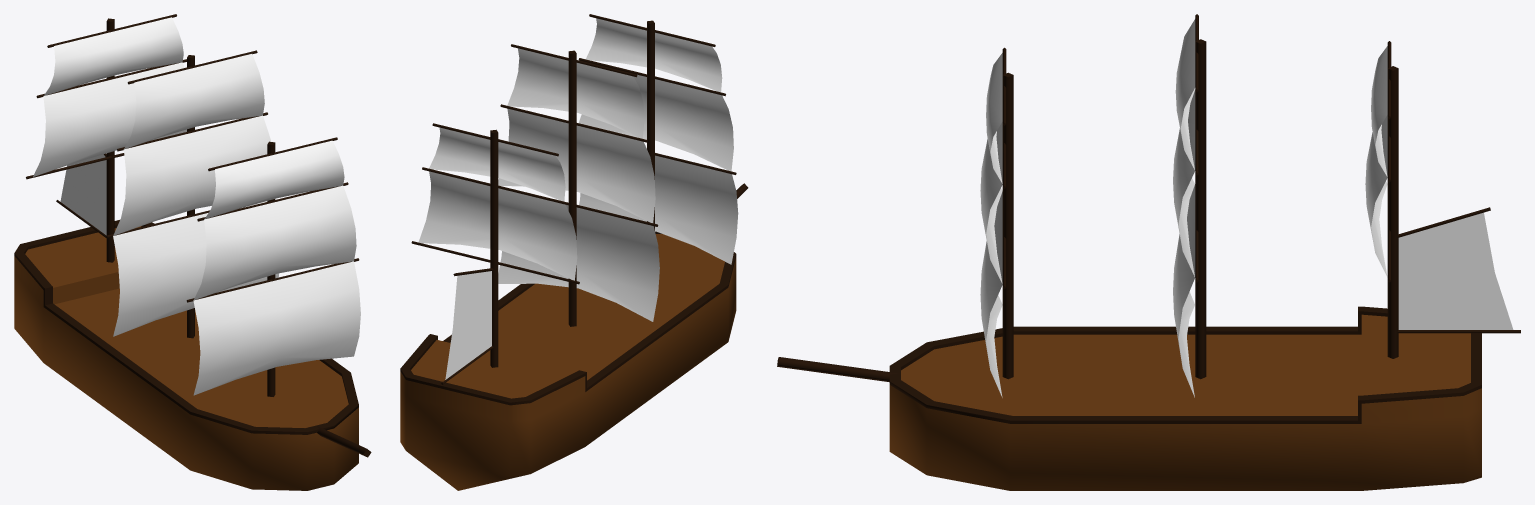
The model's file is galleon.fbx.
3 renders of one model, left to right at view 1: azimuth 30°, elevation 25°; view 2: azimuth 150°, elevation 25°; view 3: azimuth 270°, elevation 25°, orthographic. The views are drawn at different scales.
Parts seen in each view (by area): view 1: hull, sailFront, sailMid, sailRearTop, detail, sailRearBottom; view 2: hull, sailMid, sailFront, sailRearTop, detail, sailRearBottom; view 3: hull, detail, sailRearBottom, sailMid, sailFront, sailRearTop.
Boxes of the visible parts, x1,y1,x2,y2 form: hull: (14,226,358,490); sailFront: (193,140,360,395); sailMid: (113,54,278,336); sailRearTop: (33,17,186,176); detail: (14,14,371,457); sailRearBottom: (56,153,106,237); hull: (400,234,736,490); sailMid: (498,48,659,321); sailFront: (579,18,738,264); sailRearTop: (418,127,577,280); detail: (400,14,748,405); sailRearBottom: (441,268,493,384); hull: (889,314,1481,490); detail: (777,14,1481,423); sailRearBottom: (1397,207,1520,333); sailMid: (1173,19,1195,397); sailFront: (980,53,1002,397); sailRearTop: (1365,46,1387,277).
Size of the model in its own units: 3.2 by 6.5 by 10.05.
